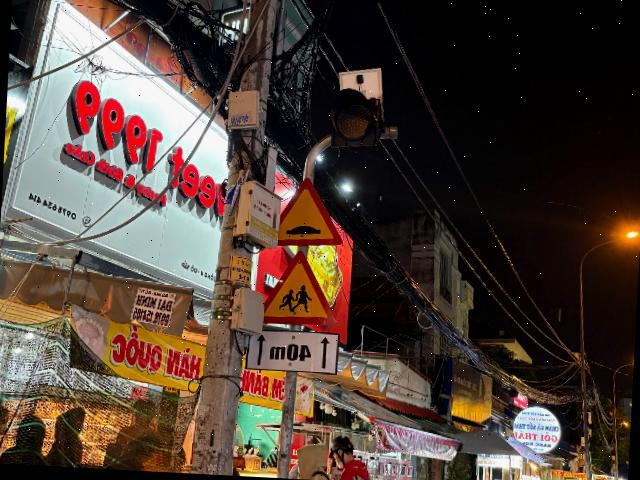duong-co-go-giam-toc: (276, 174, 346, 250)
tre-em-qua-duong: (260, 248, 338, 328)
